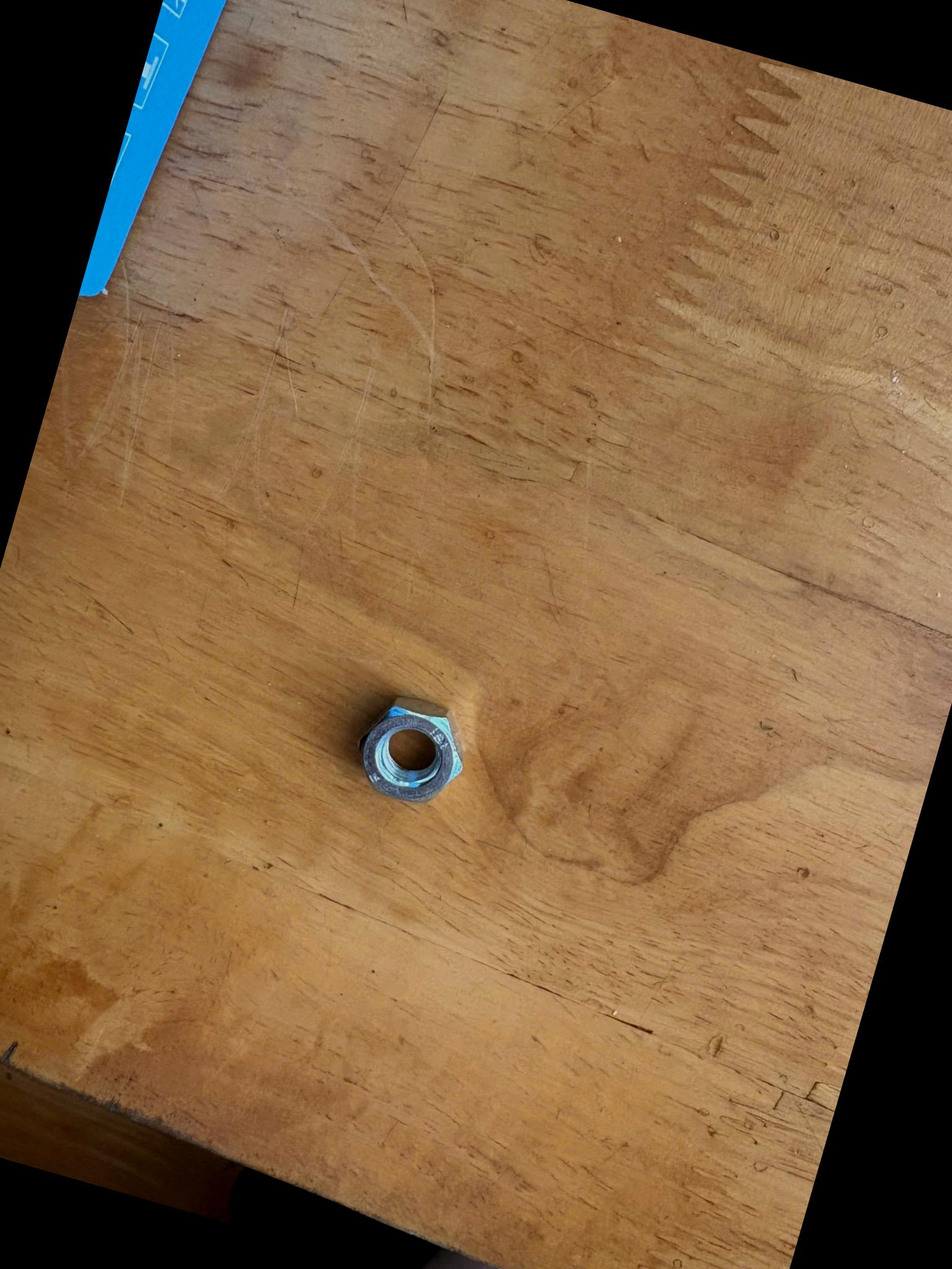nut: (316, 662, 497, 838)
